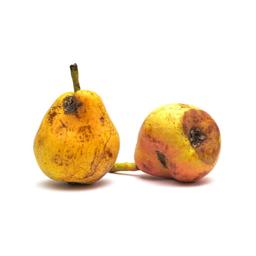Pear Rotten: (29, 61, 126, 189), (121, 102, 219, 185)
